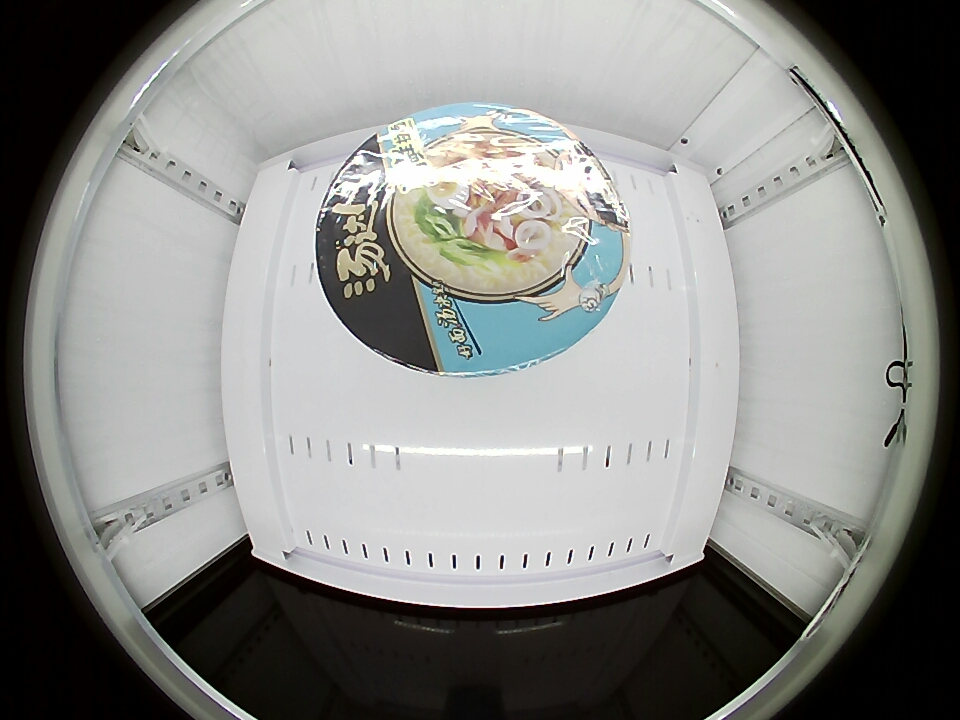tangdaren3: (314, 106, 629, 378)
